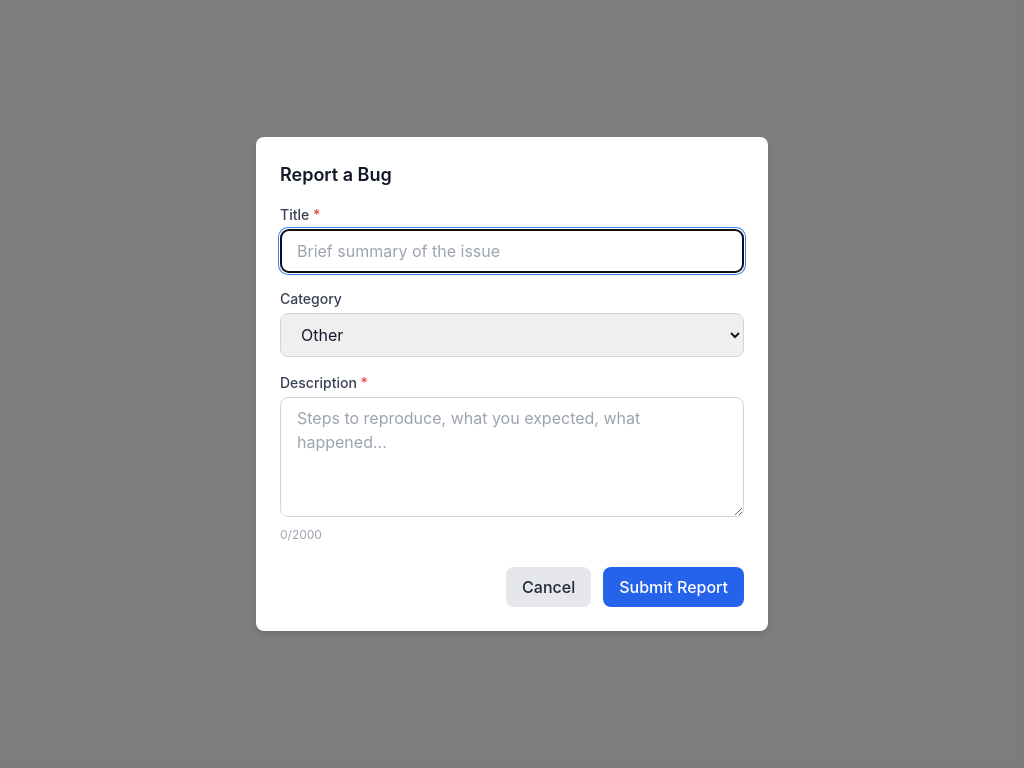
Test case: BugReportModal — character count › updates character count as user types in description
Type "hello world" into the text box labelled "Description *" at (512, 457), box 280,397 -> 744,517
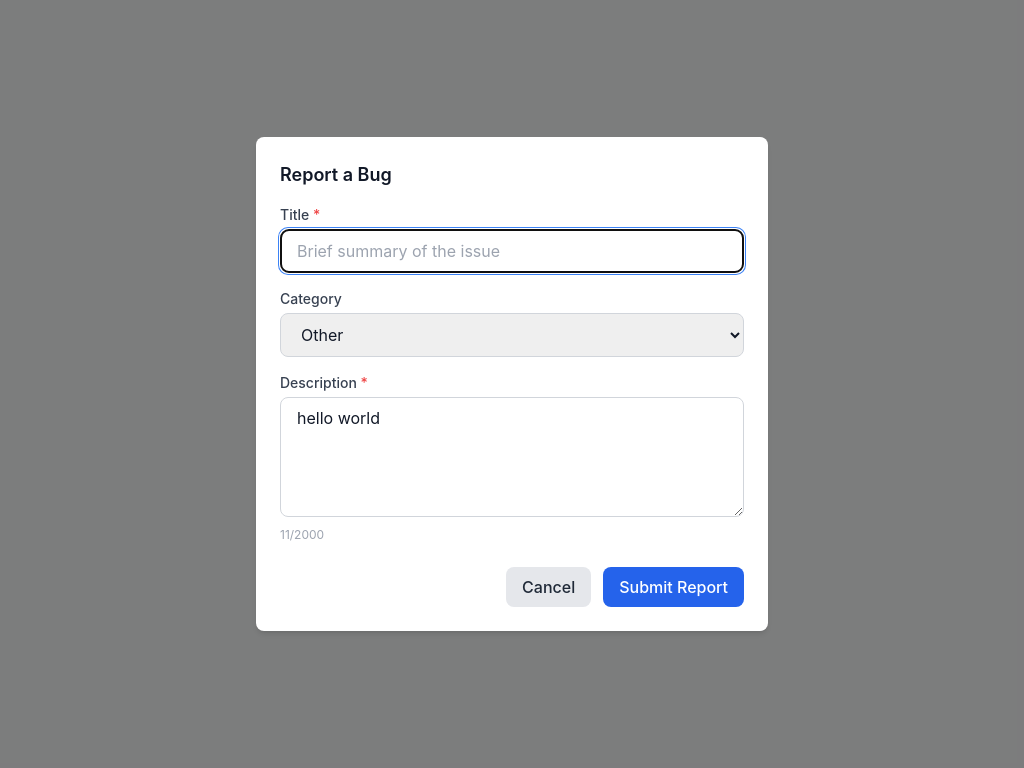
Expected: the text "11/2000" is shown, 280,527 -> 324,542
